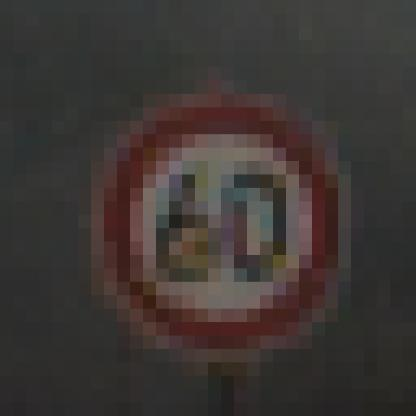Speed Limit 60: (96, 103, 338, 346)
